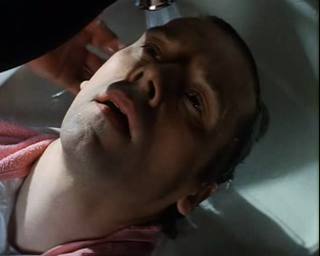cu: (1, 1, 320, 256)
face: (60, 19, 251, 195)
person: (1, 12, 271, 256)
